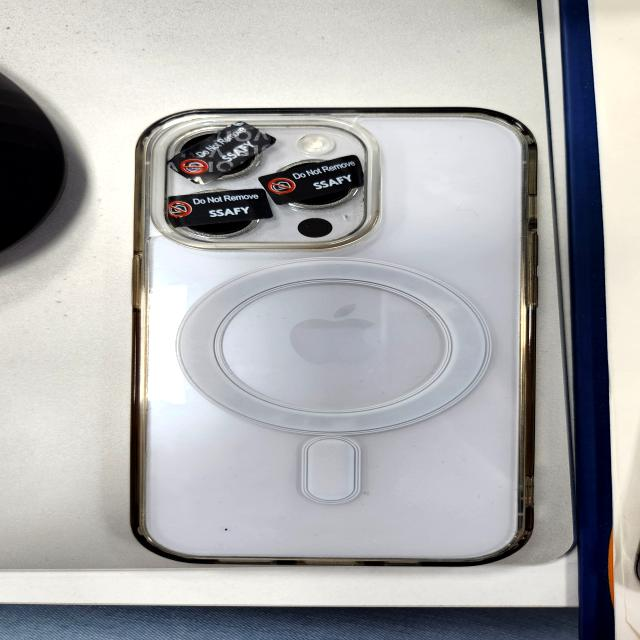phone: (129, 105, 539, 565)
removed_sticker: (168, 124, 274, 184)
sticker: (271, 155, 364, 204), (162, 192, 268, 222)
